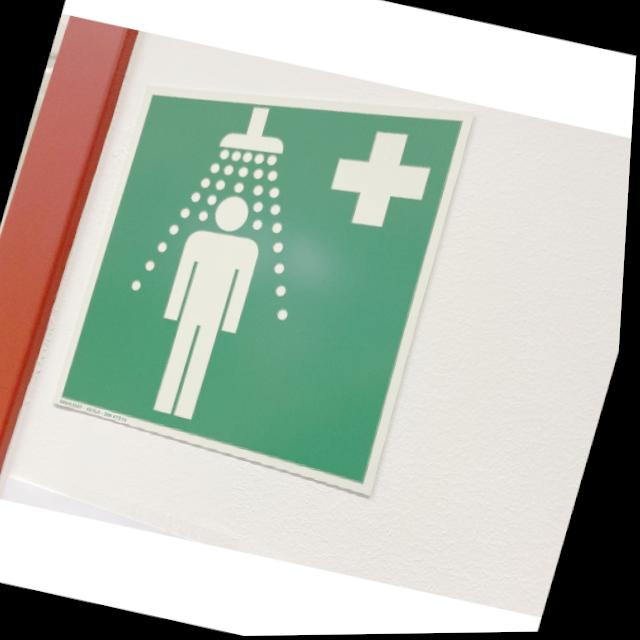shower: (50, 39, 486, 503)
